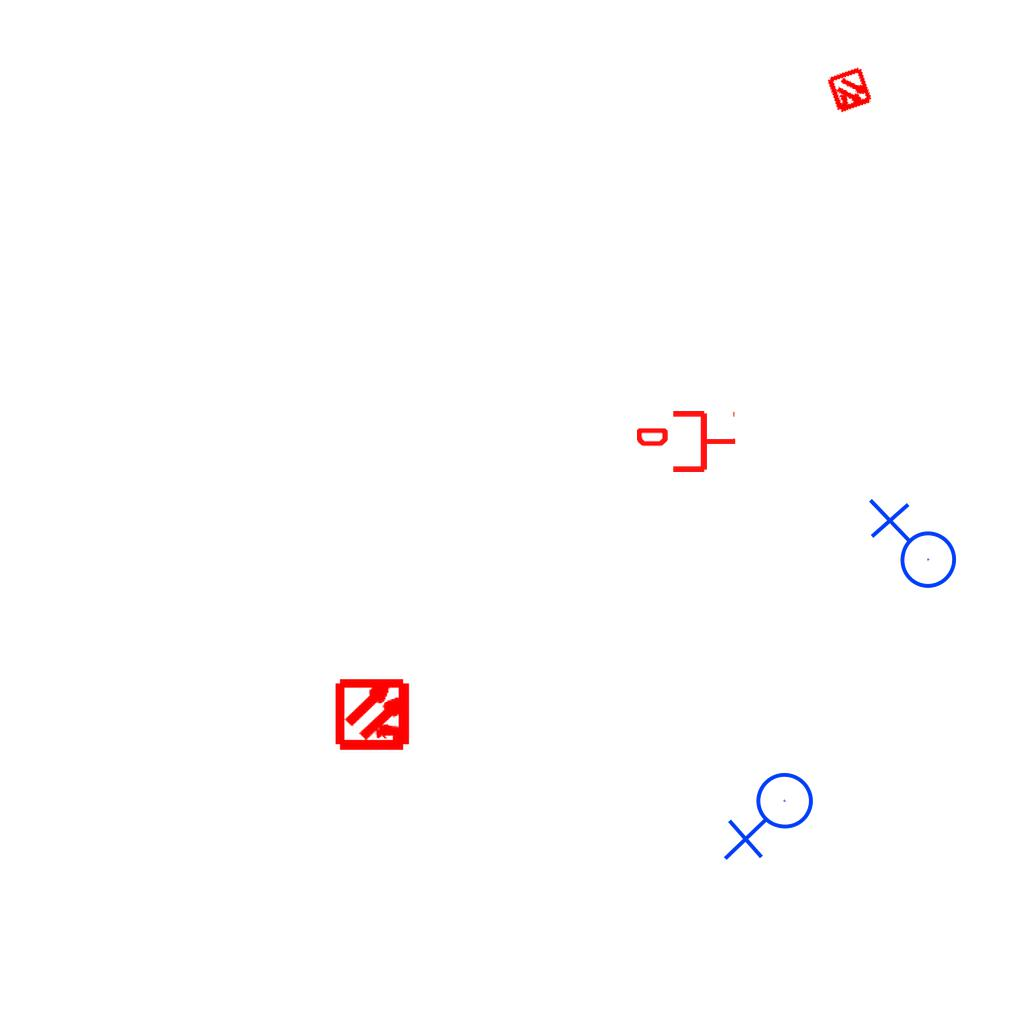Datenanschluss_einfach: (637, 407, 737, 476)
Elektroanschluss_allgemein_230V_Geraeteanschlussdose_230V: (723, 771, 822, 865), (864, 498, 958, 597)
OT_Multisensormelder_(Kombination_RMO_WMD): (318, 658, 431, 771), (814, 55, 886, 127)
